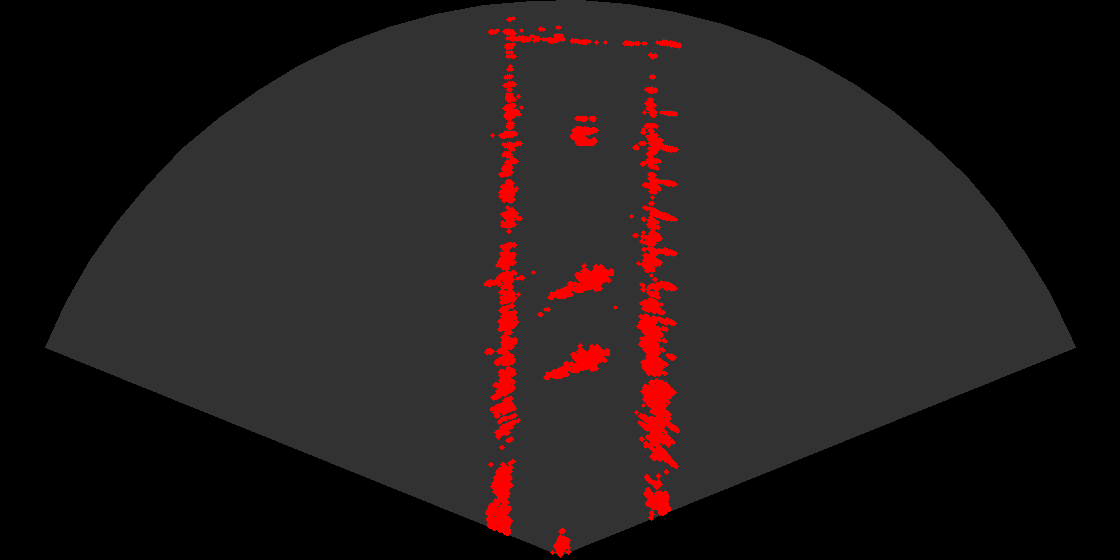ball: (550, 108, 610, 149)
frogman: (542, 337, 610, 384), (546, 257, 614, 304)
